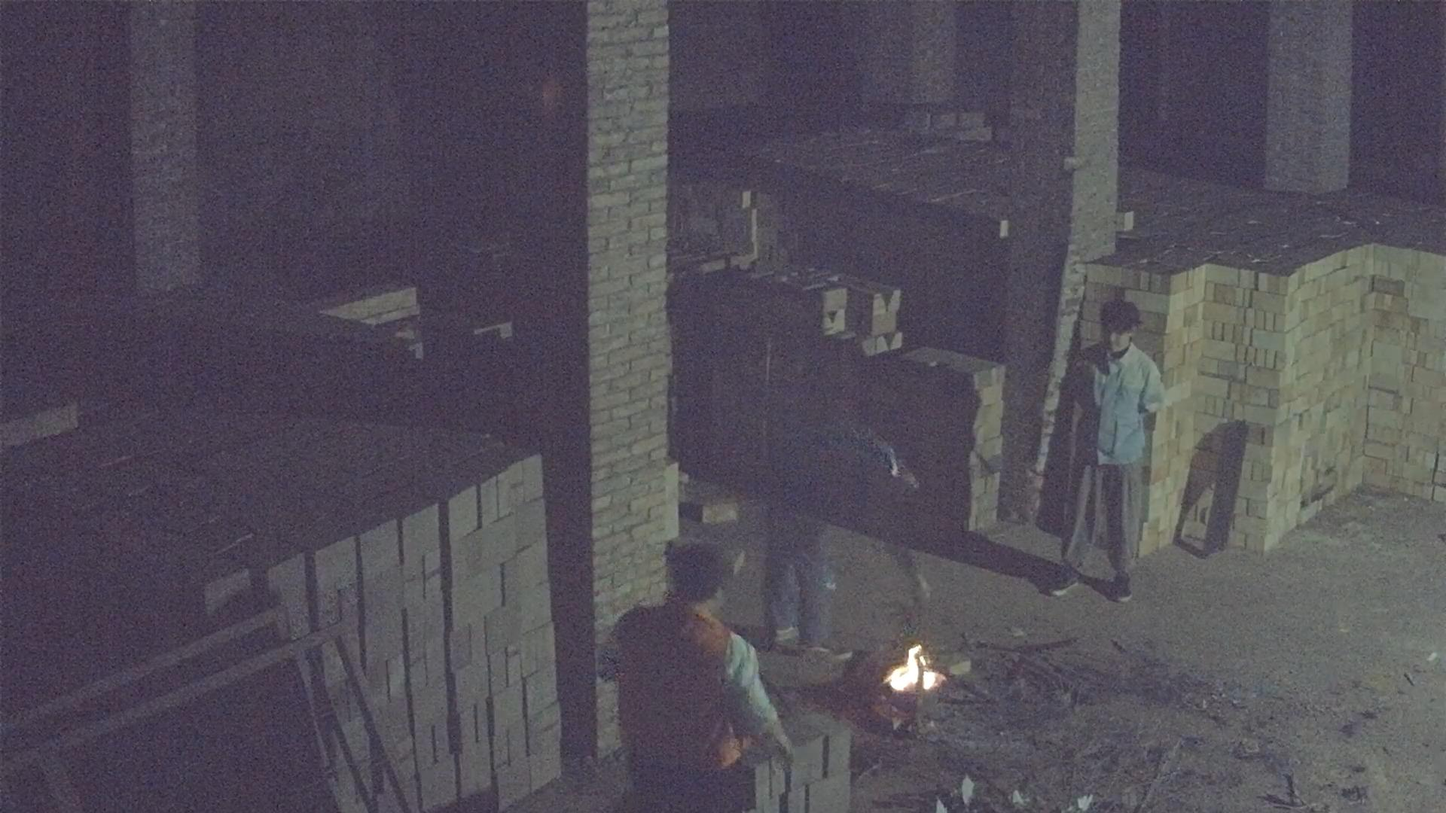fire: (886, 644, 946, 693)
